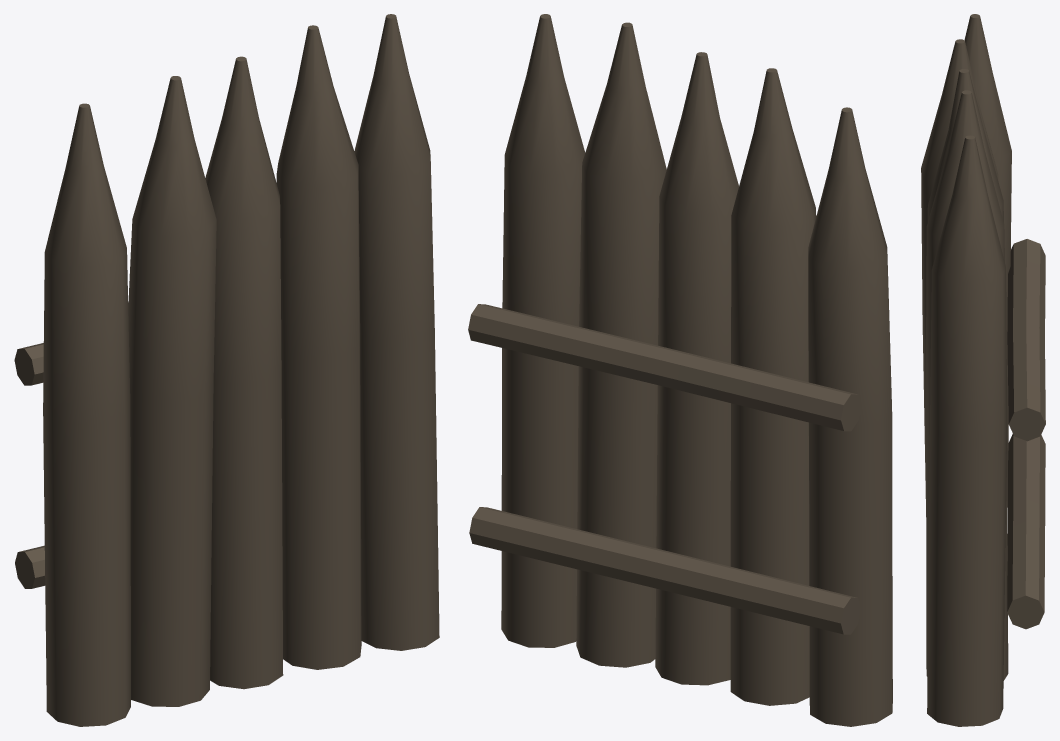
Rendered from bruestung_holz_15_1m.glb.
3 renders of one model, left to right at view 1: azimuth 30°, elevation 25°; view 2: azimuth 150°, elevation 25°; view 3: azimuth 270°, elevation 25°, orthographic. The views are drawn at different scales.
Parts seen in each view (by area): view 1: bruestung_holz_15_1m; view 2: bruestung_holz_15_1m; view 3: bruestung_holz_15_1m.
Boxes of the visible parts, left/top/right/bottom form: bruestung_holz_15_1m: left=14, top=14, right=439, bottom=726; bruestung_holz_15_1m: left=468, top=14, right=892, bottom=726; bruestung_holz_15_1m: left=921, top=14, right=1045, bottom=726.
Bounding box in the file's own units: 0.9864 × 1.55 × 0.3006.
